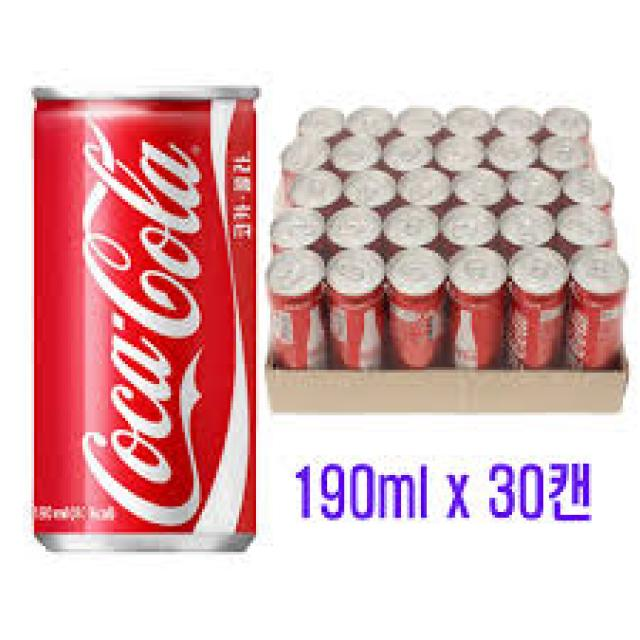Coca-Cola: (24, 74, 266, 562)
